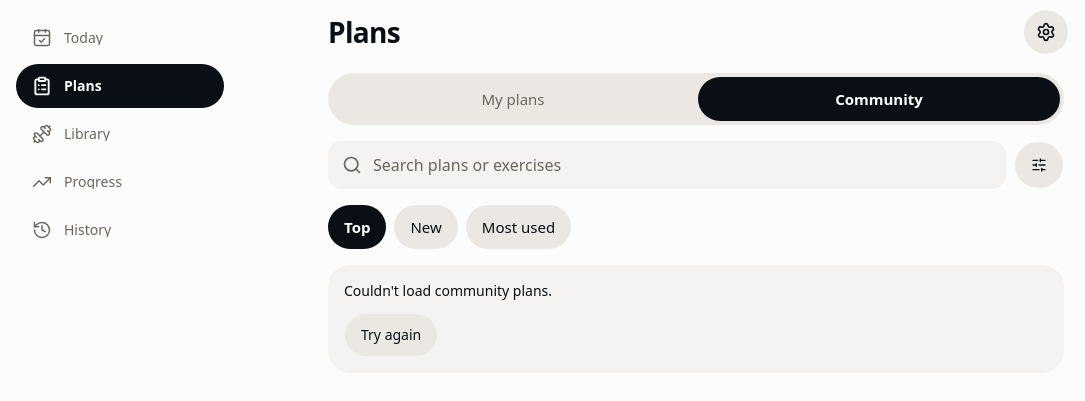
empty community points to publishing; a failed load can retry
The image size is (1085, 401).
Expected: the text "Couldn't load community plans." is shown, [344, 281, 552, 301]
Click the button "Try again" at (391, 335), box [344, 313, 438, 357]
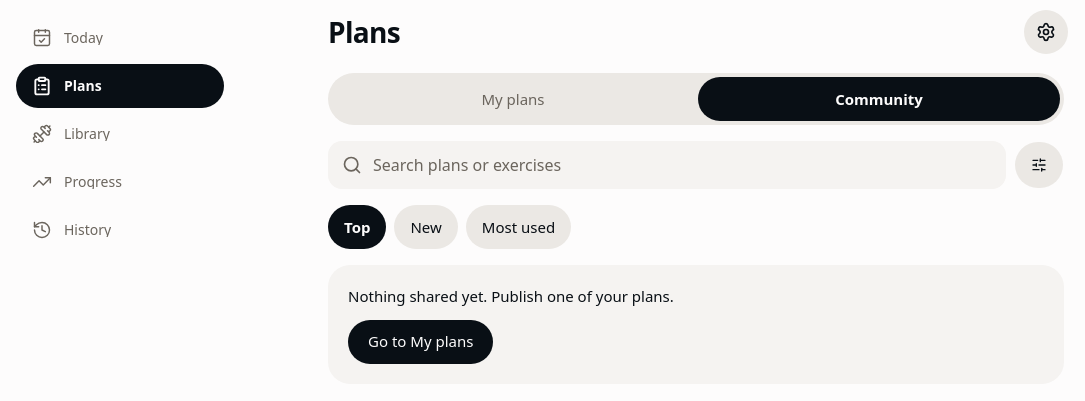
Expected: the text "Nothing shared yet. Publish one of your plans." is shown, [348, 285, 674, 308]
